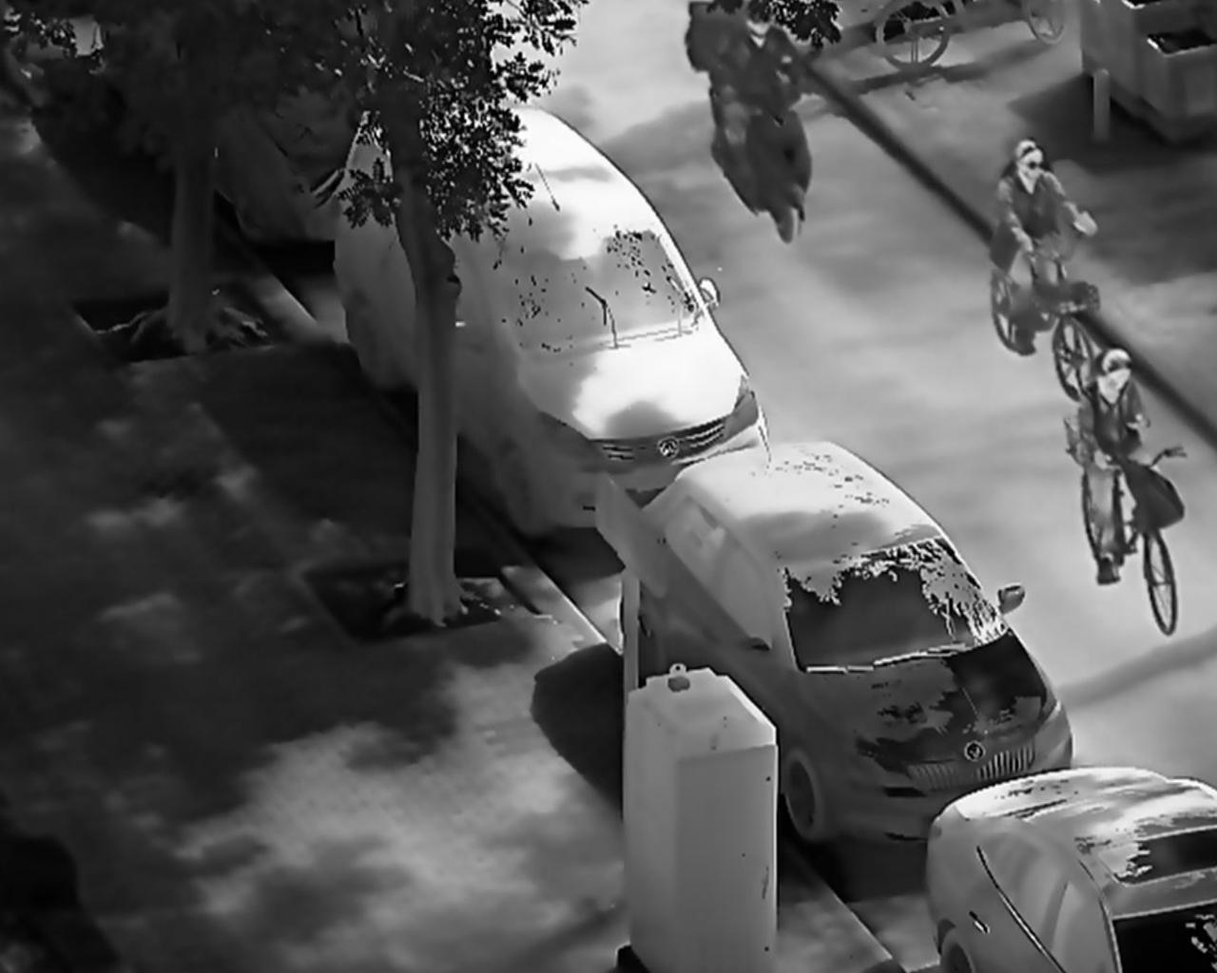person: (988, 135, 1104, 357), (1076, 340, 1160, 588)
